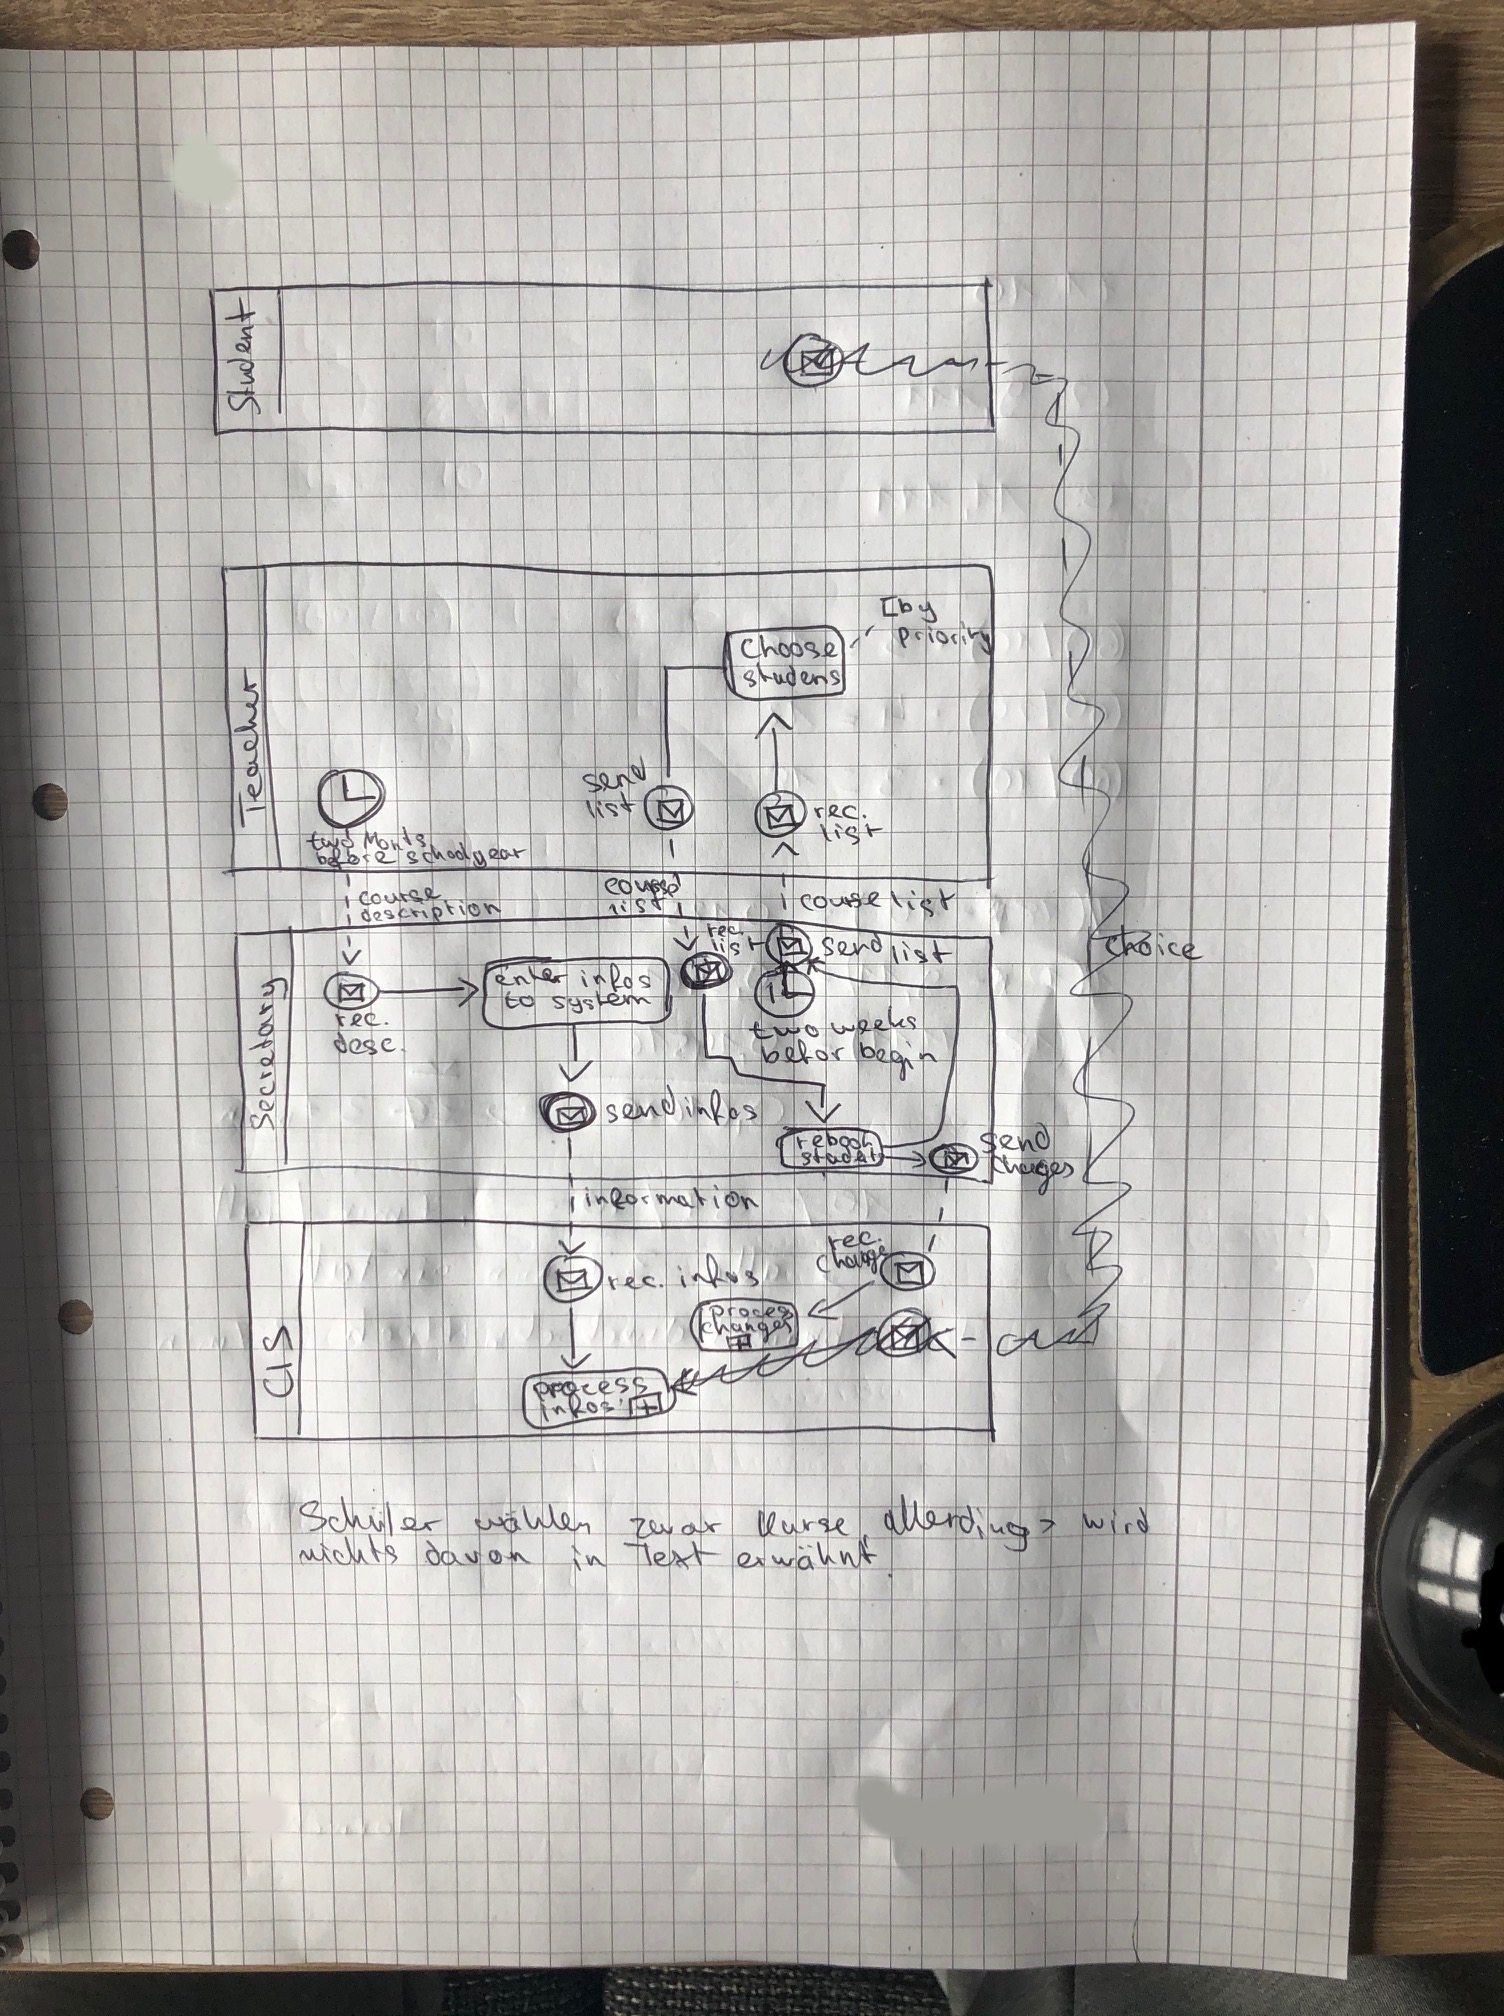CIS: (258, 1322, 296, 1401)
Choose: (739, 636, 840, 661)
Kurse: (753, 1508, 855, 1539)
Monts: (359, 825, 430, 851)
Priority: (897, 622, 997, 655)
Schüler: (295, 1497, 443, 1537)
Secretary: (247, 976, 292, 1133)
Student: (222, 295, 263, 415)
Teacher: (231, 664, 268, 830)
Text: (624, 1539, 715, 1568)
allerdings: (880, 1494, 1032, 1555)
befor: (758, 1038, 848, 1067)
before: (314, 847, 400, 872)
begin: (857, 1040, 941, 1080)
by: (897, 595, 940, 625)
change: (810, 1254, 890, 1289)
changes: (990, 1153, 1078, 1195), (698, 1317, 793, 1340)
course: (604, 871, 685, 896), (798, 891, 885, 913), (353, 890, 439, 911)
davon: (422, 1535, 534, 1569)
desc.: (330, 1028, 409, 1060)
description: (357, 905, 504, 930)
enter: (492, 965, 571, 991)
erwähnt: (735, 1536, 882, 1572)
in: (567, 1542, 611, 1574)
information: (580, 1181, 763, 1212)
infos: (673, 1251, 766, 1291), (682, 1084, 759, 1126), (575, 962, 655, 995), (532, 1400, 617, 1427)
list: (886, 885, 954, 922), (887, 939, 949, 968), (815, 822, 884, 848), (581, 793, 637, 822), (602, 896, 666, 919), (707, 936, 762, 956)
nichts: (294, 1532, 403, 1568)
process: (530, 1380, 652, 1403), (706, 1304, 797, 1323)
rebook: (792, 1131, 878, 1151)
rec.: (333, 1004, 390, 1032), (813, 800, 872, 824), (823, 1232, 881, 1254), (603, 1272, 669, 1291), (704, 920, 748, 939)
school: (402, 847, 473, 870)
send: (599, 1094, 678, 1128), (978, 1122, 1053, 1156), (579, 769, 649, 801), (819, 932, 887, 959)
studens: (740, 662, 845, 691)
students: (799, 1147, 889, 1167)
system: (552, 988, 652, 1015)
to: (502, 989, 540, 1013)
two: (746, 1021, 824, 1042), (305, 832, 359, 852)
weeks: (827, 1009, 920, 1040)
wird: (1081, 1505, 1152, 1538)
wählen: (471, 1503, 597, 1536)
year: (467, 844, 529, 870)
zwar: (627, 1514, 725, 1542)
